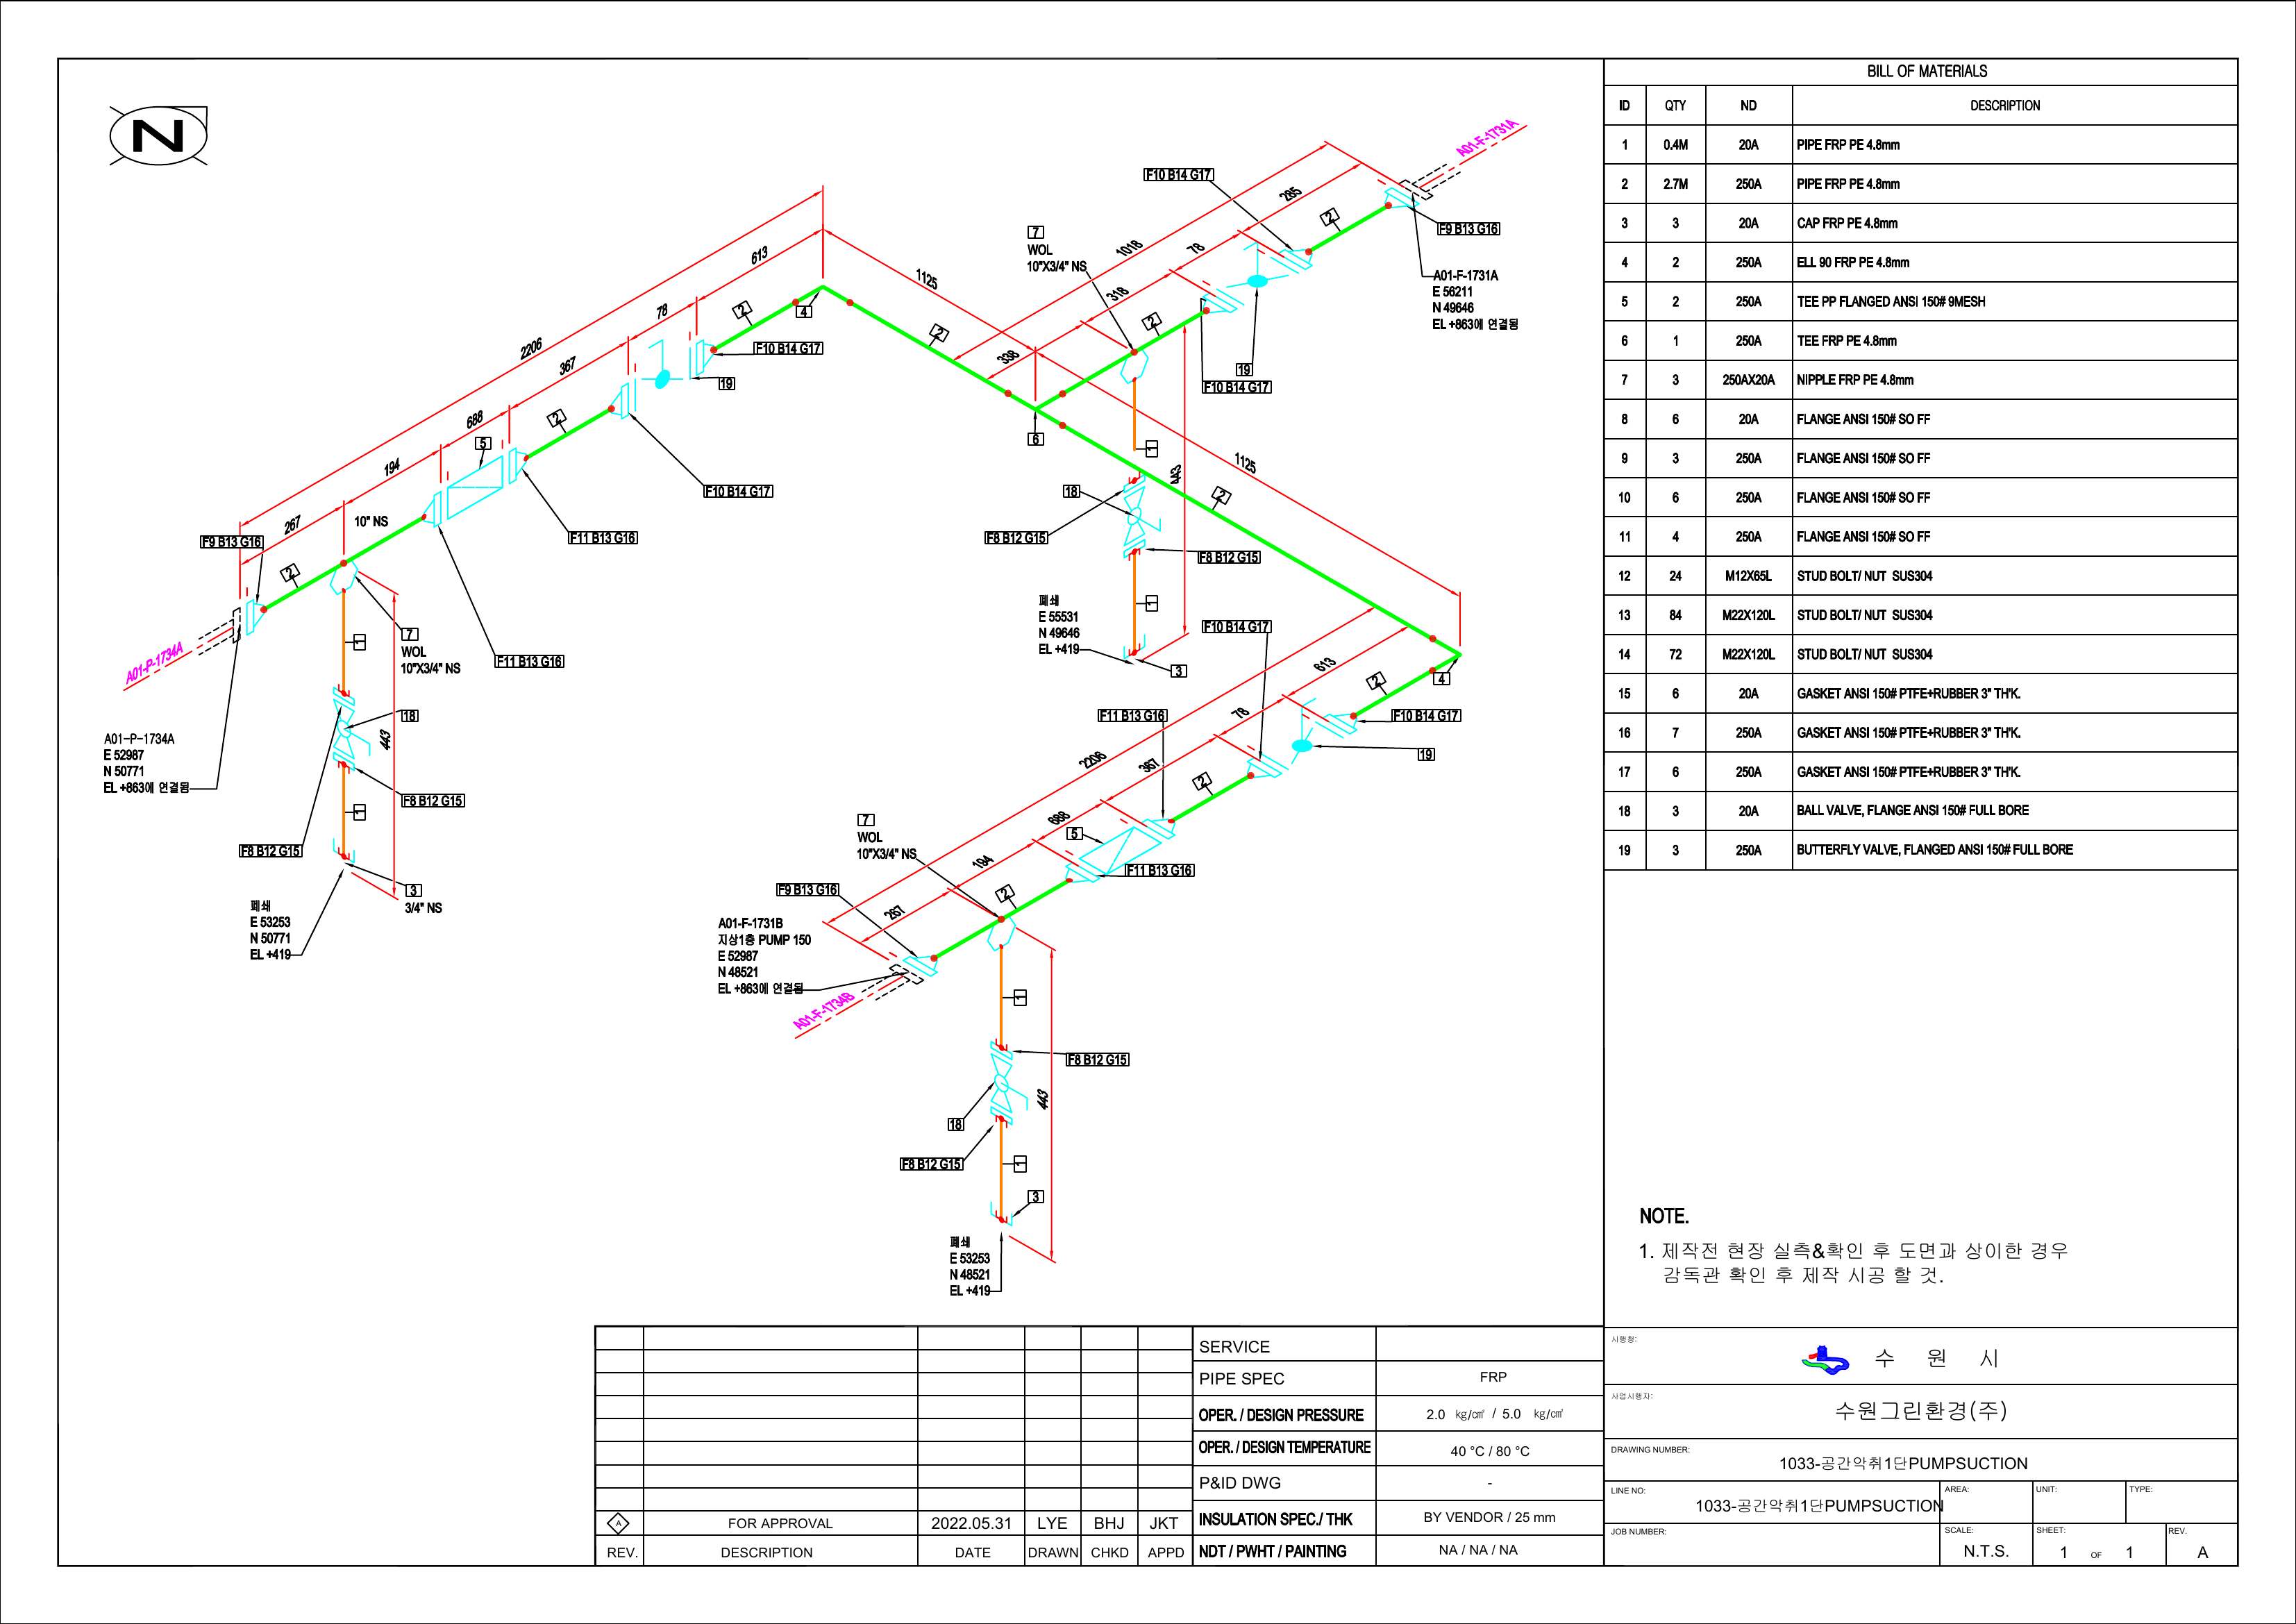table: (1602, 49, 2242, 875)
